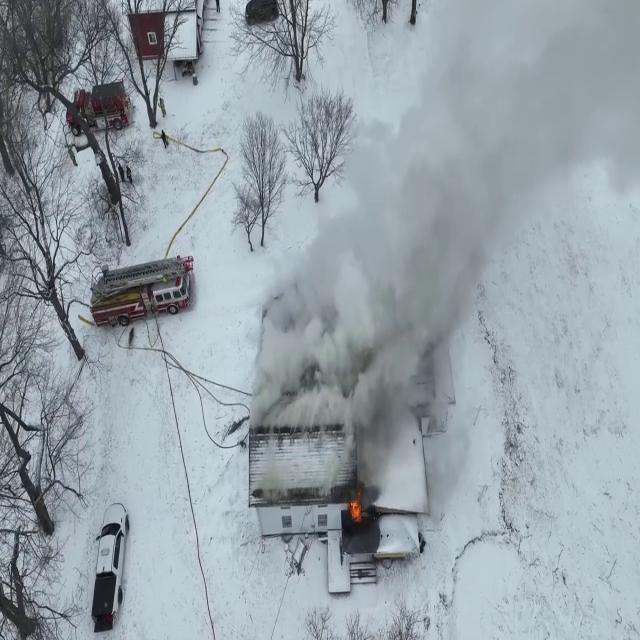Smoke: (247, 2, 538, 510)
